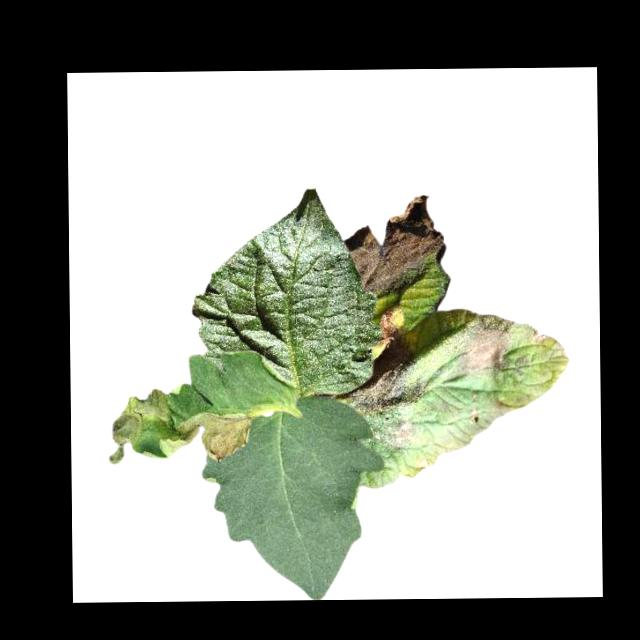Late_blight: (340, 194, 444, 299), (345, 338, 421, 412), (104, 387, 172, 464), (449, 312, 515, 379), (174, 411, 251, 460), (366, 411, 421, 452), (376, 302, 402, 341), (524, 322, 547, 348), (414, 455, 434, 471)
healthy: (190, 188, 372, 396), (208, 397, 385, 601)
